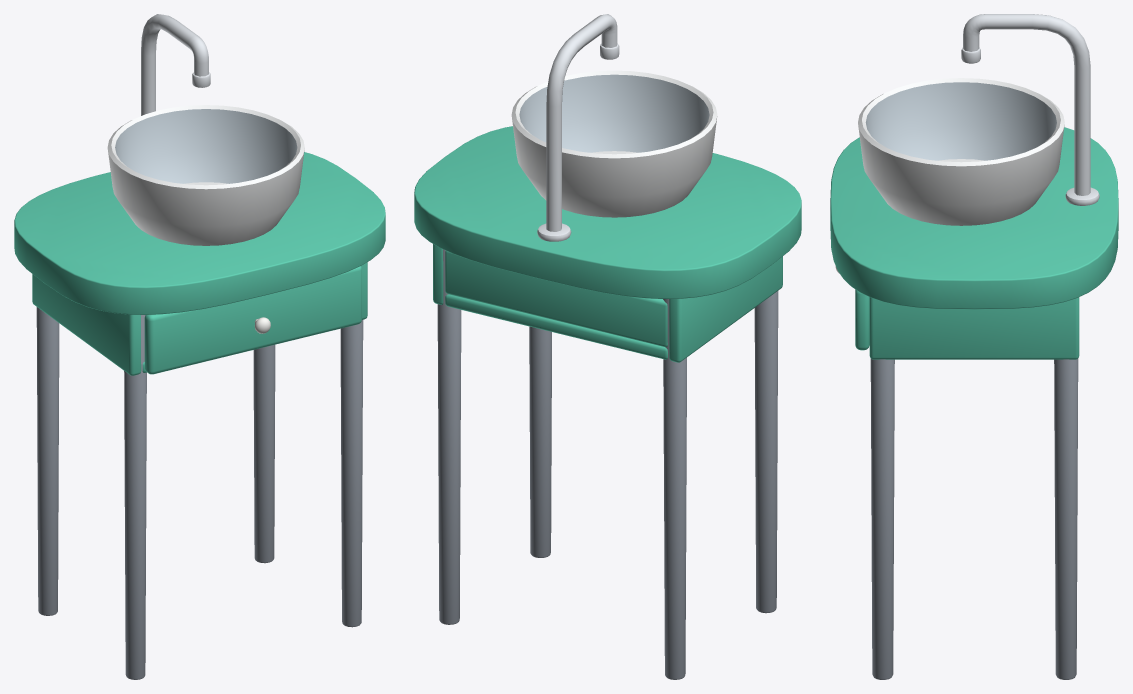
File: mesinha_cuba_verde_agua.glb
3 renders of one model, left to right at view 1: azimuth 30°, elevation 25°; view 2: azimuth 150°, elevation 25°; view 3: azimuth 270°, elevation 25°, orthographic. The views are drawn at different scales.
Visible parts, largest first — view 1: mesinha_cuba_verde_agua, gaveta_1; view 2: mesinha_cuba_verde_agua; view 3: mesinha_cuba_verde_agua, gaveta_1.
Boxes of the visible parts, box(x1,y1,x2,y2) form: mesinha_cuba_verde_agua: box(14, 14, 385, 679); gaveta_1: box(144, 266, 361, 374); mesinha_cuba_verde_agua: box(414, 14, 801, 679); mesinha_cuba_verde_agua: box(830, 14, 1118, 679); gaveta_1: box(835, 266, 869, 350).
Bounding box in the file's own units: 0.58 × 1.02 × 0.44.
1 material, 1 textured.
